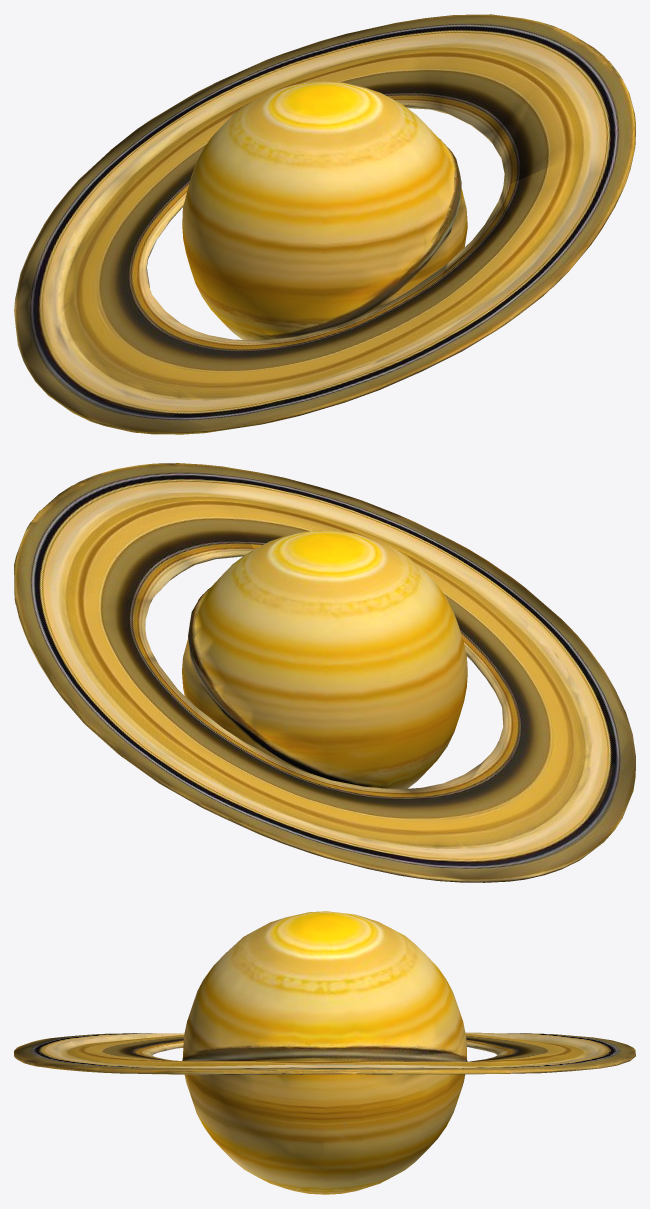
File: saturn.glb
3 renders of one model, top to bottom at view 1: azimuth 30°, elevation 25°; view 2: azimuth 150°, elevation 25°; view 3: azimuth 270°, elevation 25°, orthographic.
Parts seen in each view (by area): view 1: Mesh_0; view 2: Mesh_0; view 3: Mesh_0.
Boxes of the visible parts, bbox=[...] form: Mesh_0: bbox=[14, 14, 635, 434]; Mesh_0: bbox=[14, 463, 635, 882]; Mesh_0: bbox=[14, 911, 635, 1194].
Bounding box in the file's own units: 1.89 × 0.871 × 1.91.
1 material, 1 textured.
